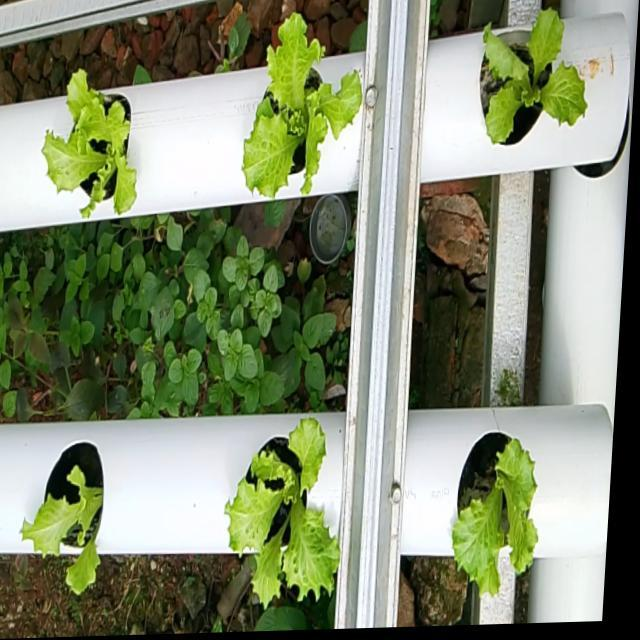Baby: (225, 419, 340, 612), (242, 15, 361, 201), (479, 8, 587, 147), (42, 71, 136, 220), (453, 432, 538, 596), (21, 443, 104, 595)
